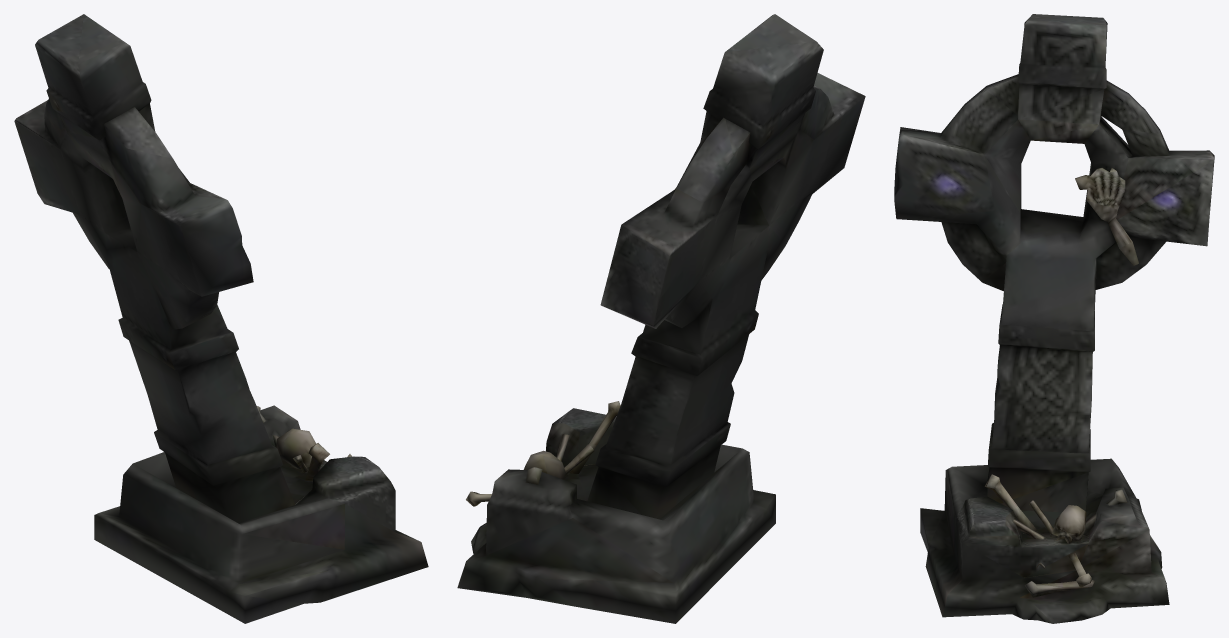
Rendered from tombstone_cross.glb.
3 renders of one model, left to right at view 1: azimuth 30°, elevation 25°; view 2: azimuth 150°, elevation 25°; view 3: azimuth 270°, elevation 25°, orthographic. The views are drawn at different scales.
Parts seen in each view (by area): view 1: tripo_node_74601b94-cf66-42da-bd0d-4adfd1e5603b; view 2: tripo_node_74601b94-cf66-42da-bd0d-4adfd1e5603b; view 3: tripo_node_74601b94-cf66-42da-bd0d-4adfd1e5603b.
Boxes of the visible parts, x1,y1,x2,y2 form: tripo_node_74601b94-cf66-42da-bd0d-4adfd1e5603b: (14,14,428,623); tripo_node_74601b94-cf66-42da-bd0d-4adfd1e5603b: (457,14,865,623); tripo_node_74601b94-cf66-42da-bd0d-4adfd1e5603b: (894,14,1214,623).
Size of the model in its own units: 0.5996 by 0.998 by 0.5957.
Materials: 1 (1 with a texture image).
